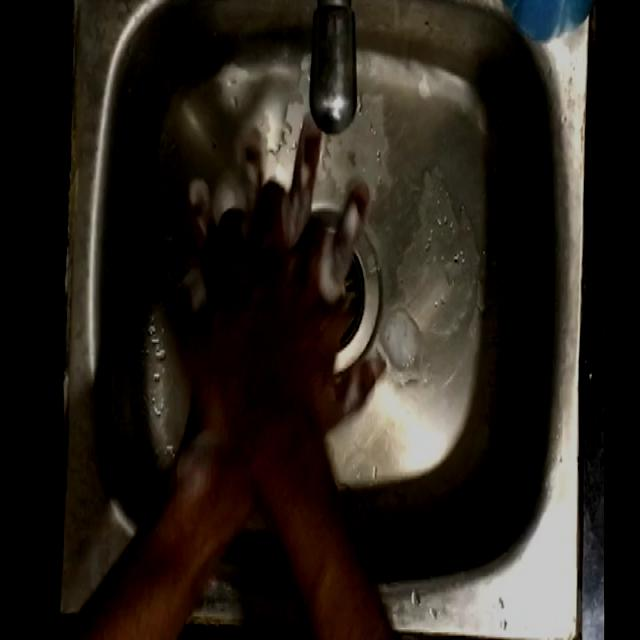step_2: (167, 105, 400, 428)
